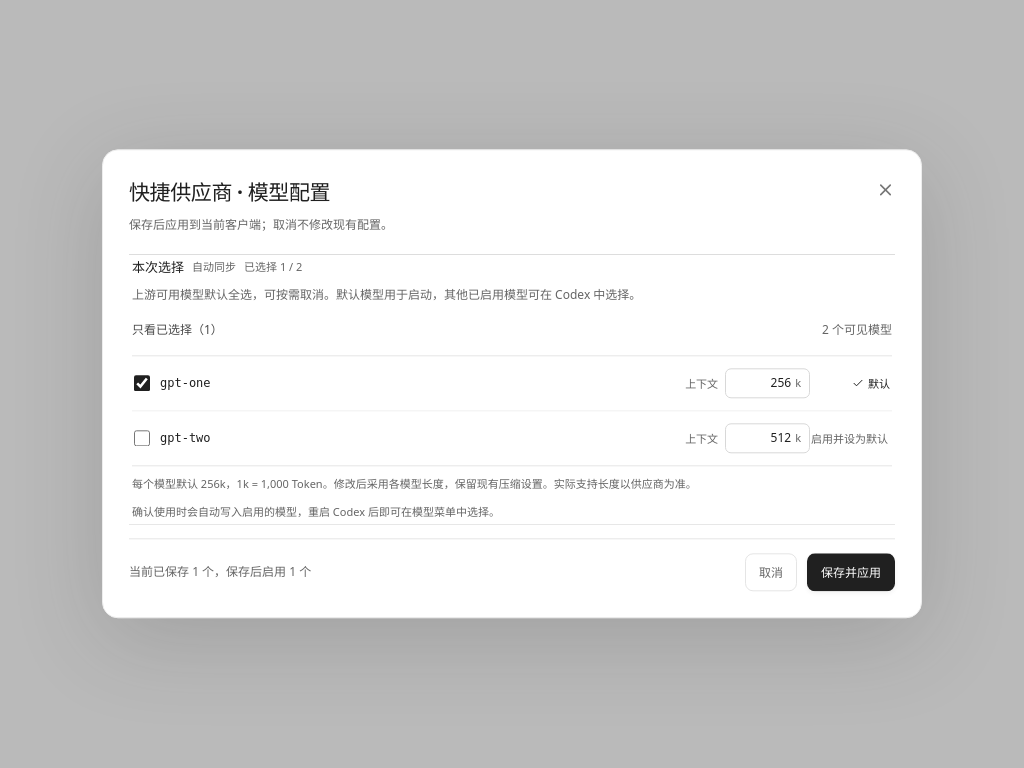
Test: 供应商行内配置 › 全部取消时阻止保存，不悄悄重新启用模型
Step 1. Click the checkbox named "启用 gpt-one" → coordinates (142, 383), box [134, 375, 150, 391]
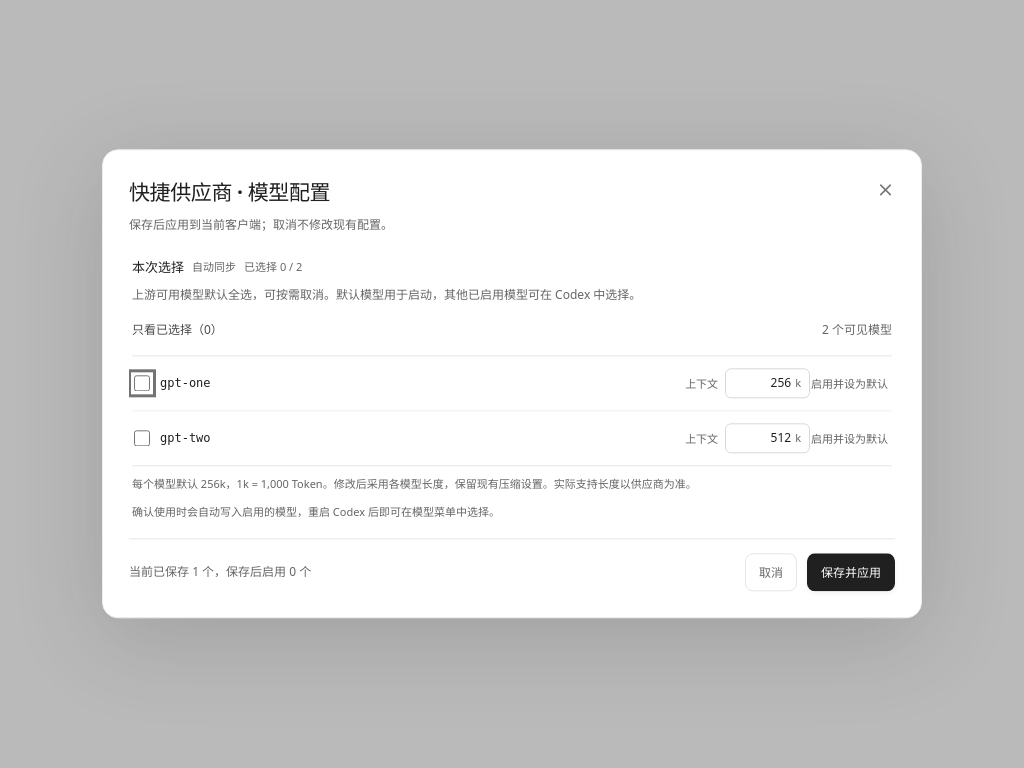
Step 2. Click the button "保存并应用" → coordinates (851, 573), box [807, 554, 895, 592]
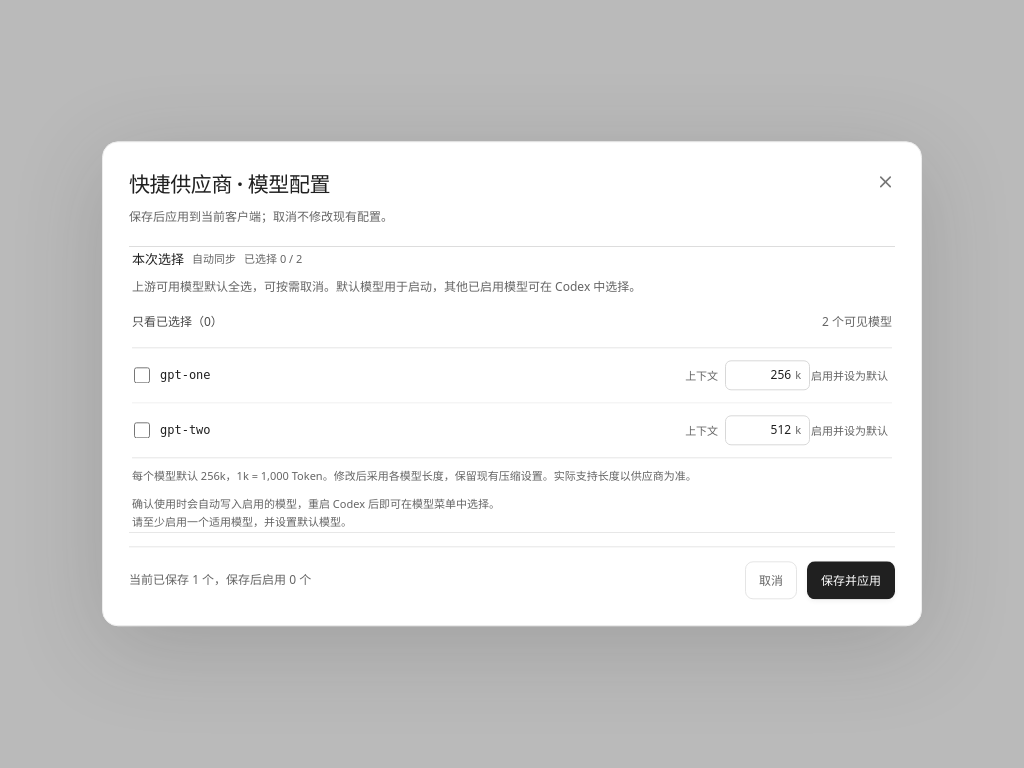
Expected: the message "请至少启用一个适用模型，并设置默认模型。" is shown, [132, 515, 352, 530]
